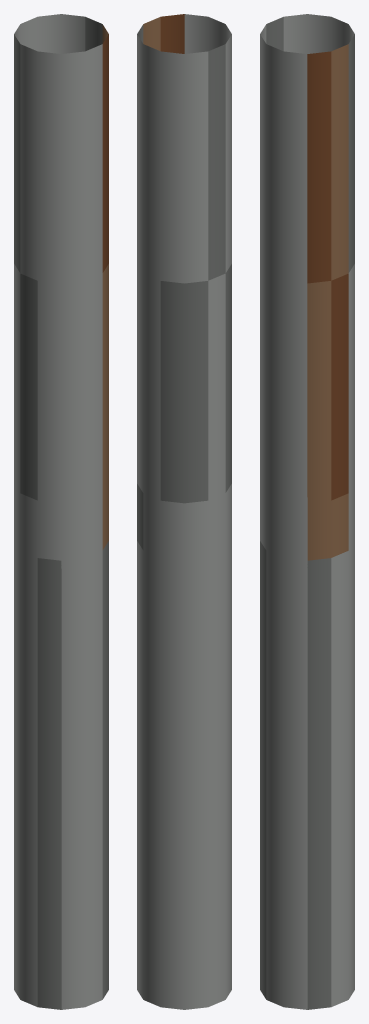
Rendered from pipe_drop@2.glb.
3 views of the same model, side by side, from view 1: azimuth 30°, elevation 25°; view 2: azimuth 150°, elevation 25°; view 3: azimuth 330°, elevation 25° (orthographic).
Parts seen in each view (by area): view 1: pipe_drop0, pipe_drop1, pipe_drop2, pipe_drop3; view 2: pipe_drop0, pipe_drop1, pipe_drop3, pipe_drop2; view 3: pipe_drop0, pipe_drop1, pipe_drop2, pipe_drop3.
Boxes of the visible parts, x1=… form: pipe_drop0: x1=14, y1=14, x2=102, y2=1009; pipe_drop1: x1=14, y1=17, x2=108, y2=1009; pipe_drop2: x1=102, y1=24, x2=108, y2=549; pipe_drop3: x1=102, y1=34, x2=108, y2=272; pipe_drop0: x1=137, y1=14, x2=231, y2=1009; pipe_drop1: x1=137, y1=24, x2=231, y2=549; pipe_drop3: x1=160, y1=14, x2=184, y2=53; pipe_drop2: x1=143, y1=17, x2=160, y2=51; pipe_drop0: x1=260, y1=14, x2=354, y2=1009; pipe_drop1: x1=260, y1=17, x2=354, y2=1009; pipe_drop2: x1=307, y1=44, x2=348, y2=560; pipe_drop3: x1=307, y1=51, x2=348, y2=500.
Bounding box in the file's own units: 0.09 × 1 × 0.09.
